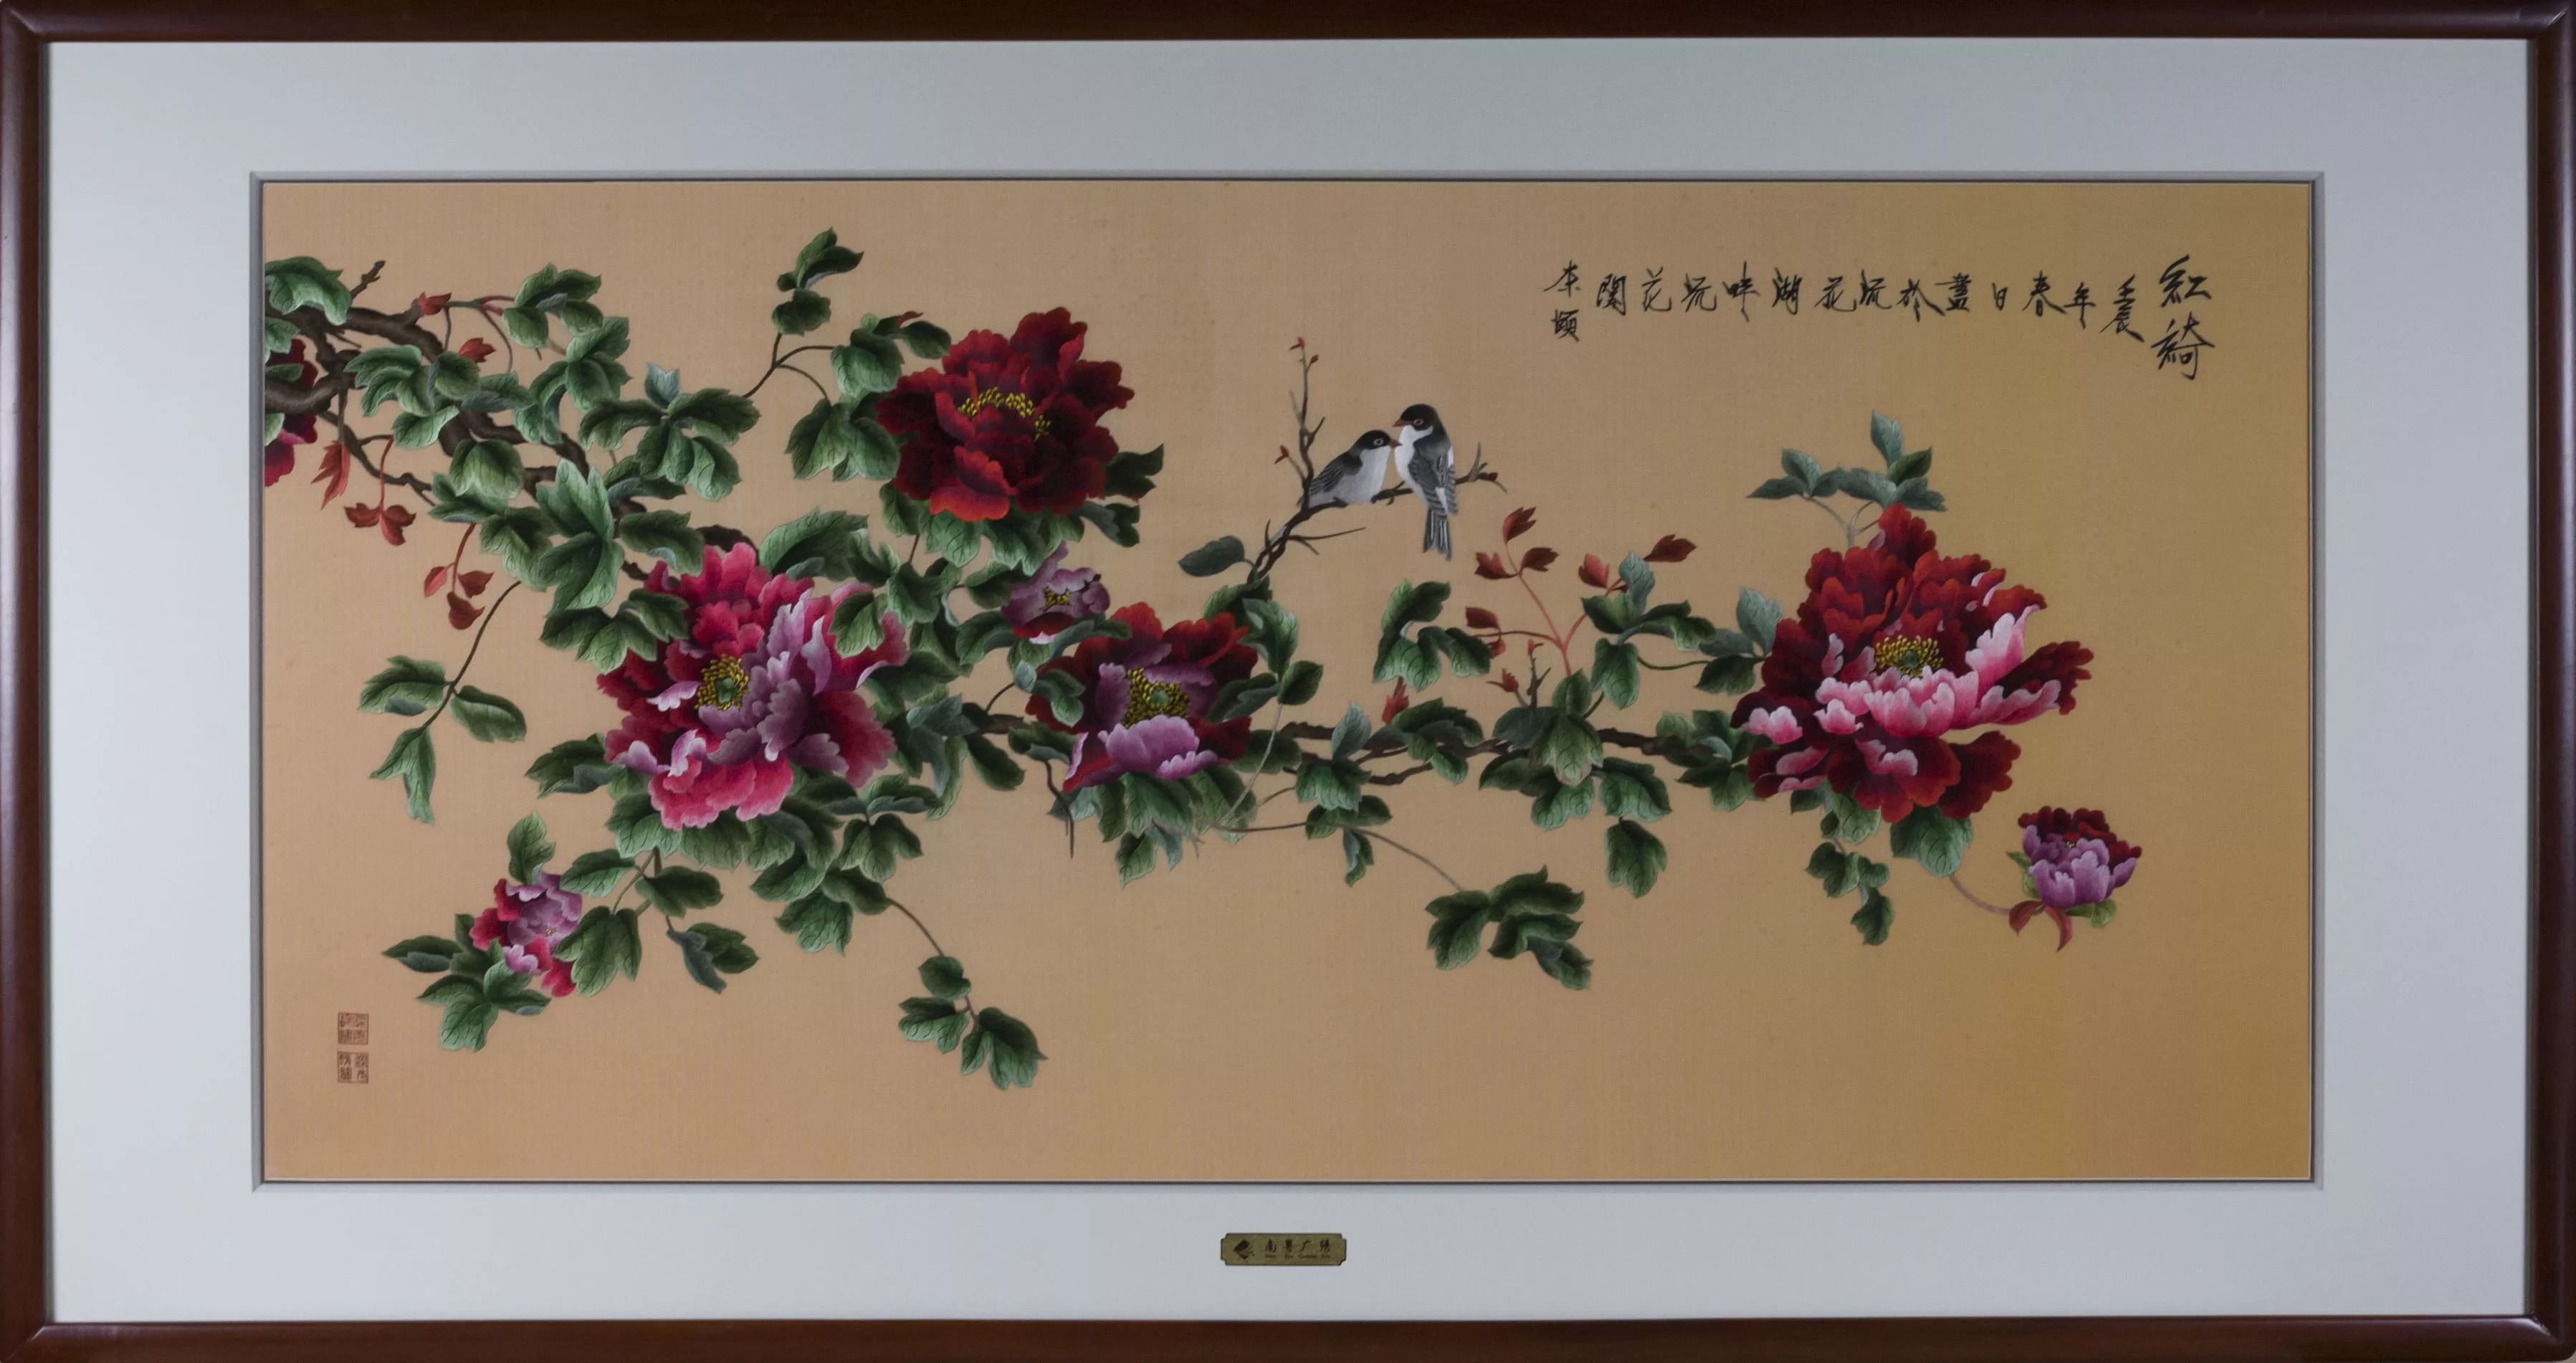bird: (1291, 428, 1404, 530), (1395, 402, 1465, 566)
flower: (1734, 496, 2094, 820), (596, 525, 905, 818), (869, 300, 1145, 518), (1038, 583, 1261, 755), (2010, 797, 2142, 922), (463, 869, 591, 995), (1058, 709, 1213, 789), (1003, 554, 1130, 639)
